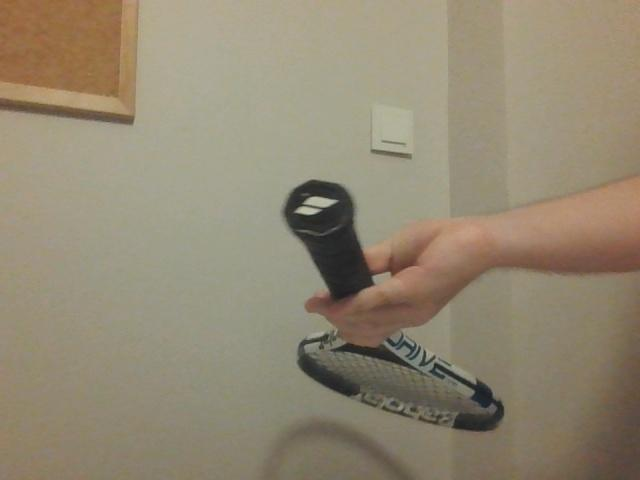Tennis-Racket: (286, 177, 512, 435)
